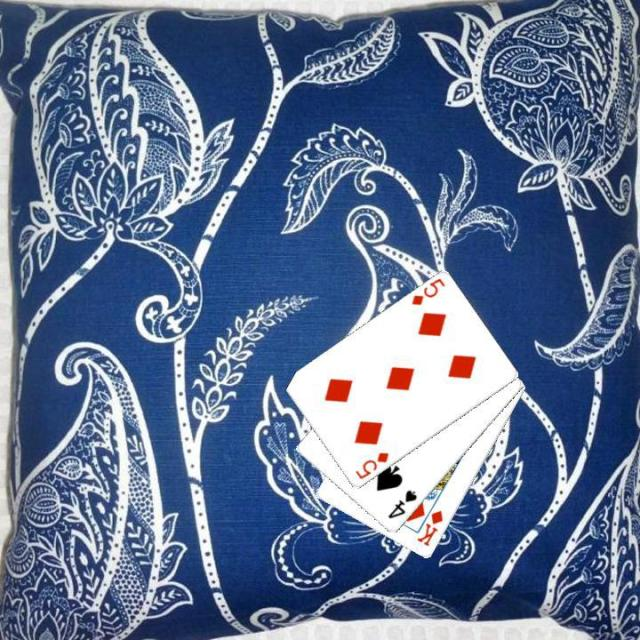4S: (384, 486, 419, 521)
5D: (407, 274, 447, 308), (351, 449, 390, 482)
KD: (414, 506, 446, 548)
